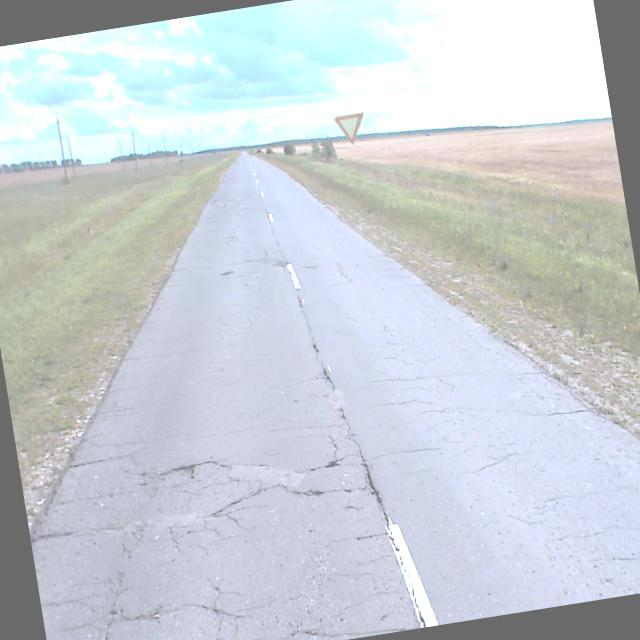road: (32, 153, 640, 640)
